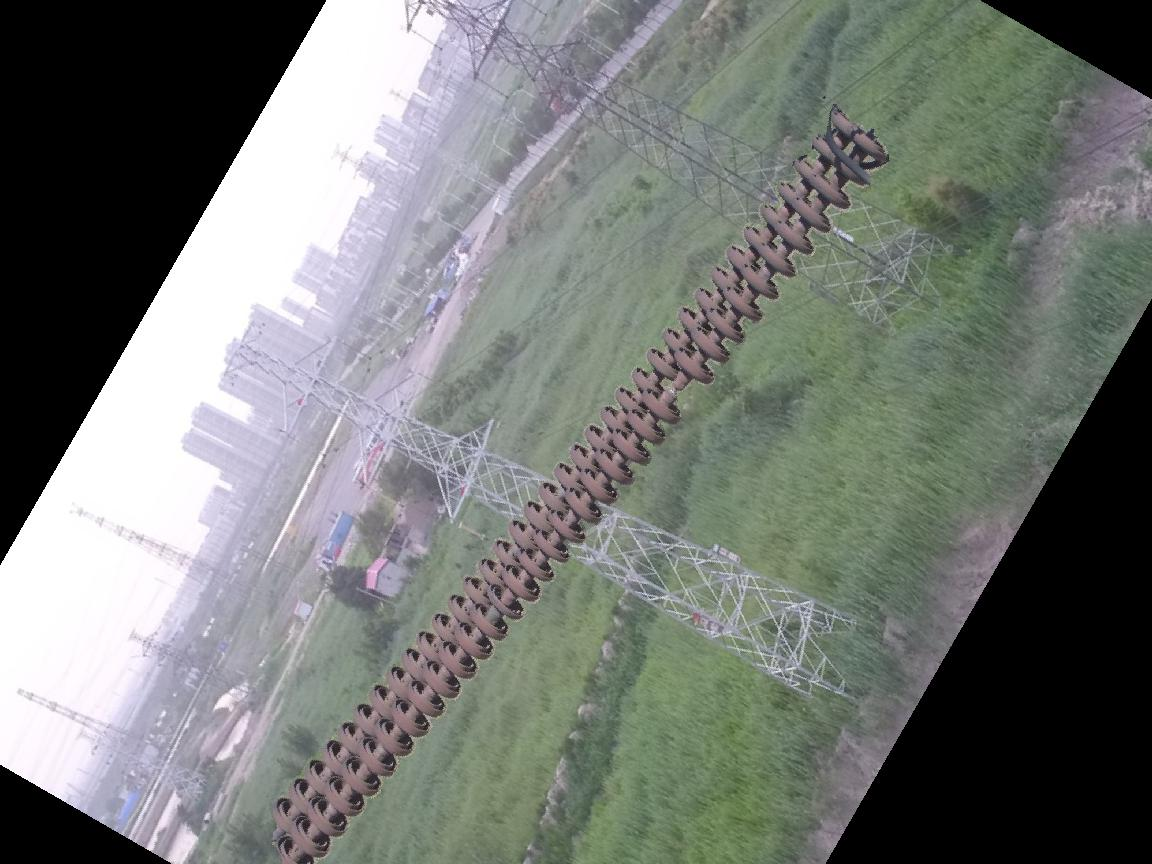insulator: (262, 107, 888, 864)
insulator_stringdrop: (636, 348, 717, 431)
